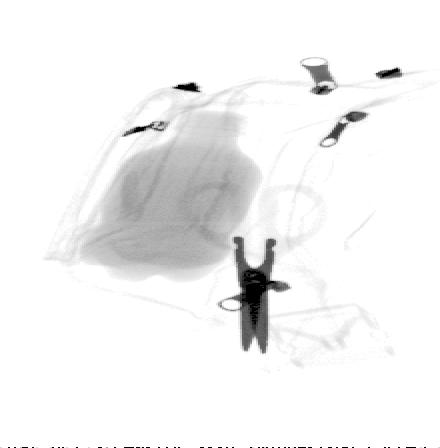Scissors: (175, 181, 331, 356)
